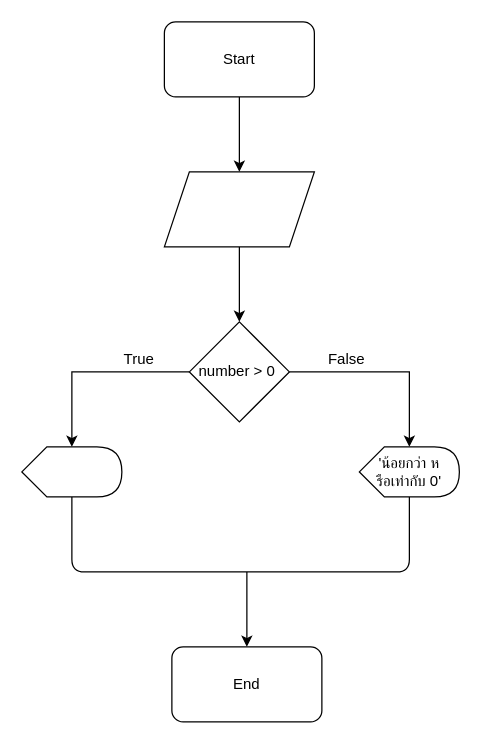
The diagram is 481 pixels wide and 744 high, and some of its shapes have lost their labels. The shapes that lost their labels are listed below. From the top down, each one's centre as x and y in pixels, then its label:
[238,209]: number
[71,471]: 'มากกว่า 0'
